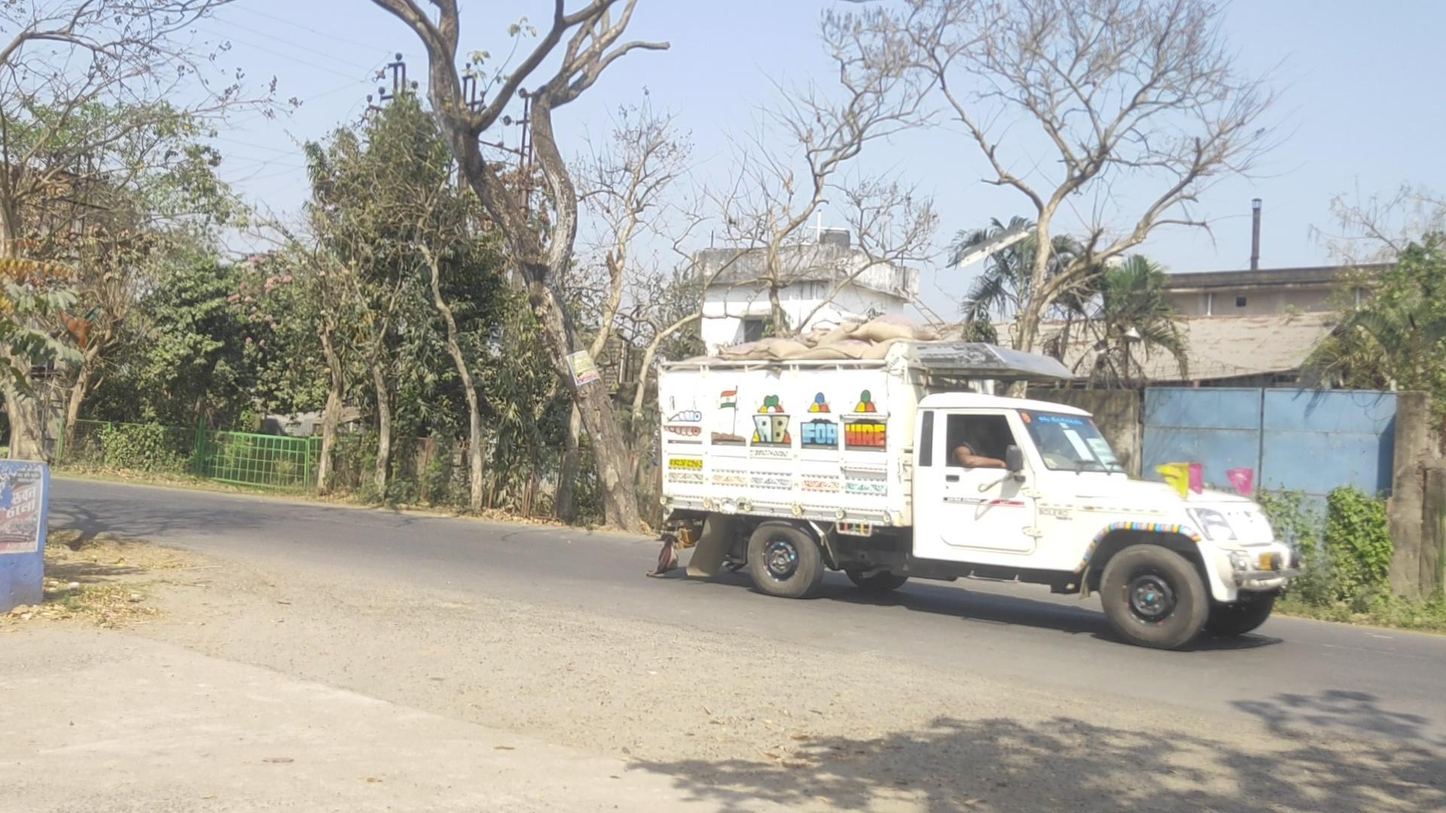van: (654, 316, 1308, 650)
